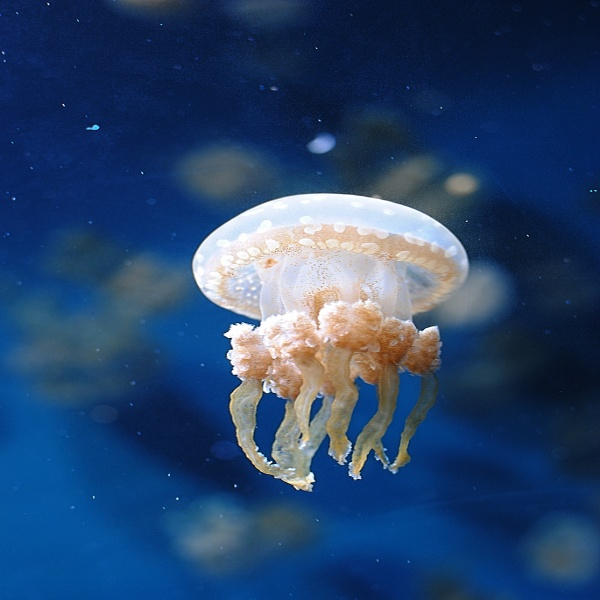Jellyfish: (192, 194, 470, 492)
